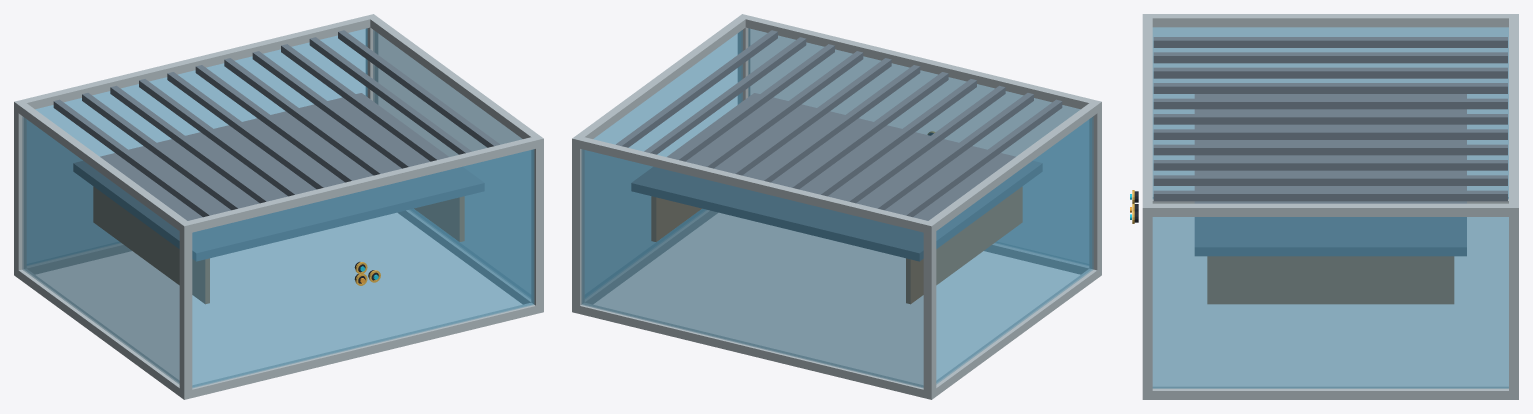
The model's file is 09_L82_RemovableEMCShieldCanopy.fbx.
3 views of the same model, side by side, from view 1: azimuth 30°, elevation 25°; view 2: azimuth 150°, elevation 25°; view 3: azimuth 270°, elevation 25° (orthographic). The views are drawn at different scales.
Visible parts, largest first — view 1: RemovableEMCShieldCanopy, RemovableEMCShieldCanopy_Part_0027, RemovableEMCShieldCanopy_Part_0028, RemovableEMCShieldCanopy_Part_0029; view 2: RemovableEMCShieldCanopy, RemovableEMCShieldCanopy_Part_0027, RemovableEMCShieldCanopy_Part_0028, RemovableEMCShieldCanopy_Part_0029; view 3: RemovableEMCShieldCanopy, RemovableEMCShieldCanopy_Part_0027, RemovableEMCShieldCanopy_Part_0029.
Part boxes in pixels (<box>): RemovableEMCShieldCanopy: <box>14,14,543,399</box>; RemovableEMCShieldCanopy_Part_0027: <box>73,93,484,261</box>; RemovableEMCShieldCanopy_Part_0028: <box>93,187,209,303</box>; RemovableEMCShieldCanopy_Part_0029: <box>414,196,464,241</box>; RemovableEMCShieldCanopy: <box>572,14,1101,399</box>; RemovableEMCShieldCanopy_Part_0027: <box>631,93,1042,261</box>; RemovableEMCShieldCanopy_Part_0028: <box>906,187,1022,303</box>; RemovableEMCShieldCanopy_Part_0029: <box>651,196,701,241</box>; RemovableEMCShieldCanopy: <box>1130,14,1518,399</box>; RemovableEMCShieldCanopy_Part_0027: <box>1194,94,1466,255</box>; RemovableEMCShieldCanopy_Part_0029: <box>1207,256,1453,303</box>.
Bounding box in the file's own units: 455 × 210 × 386.
